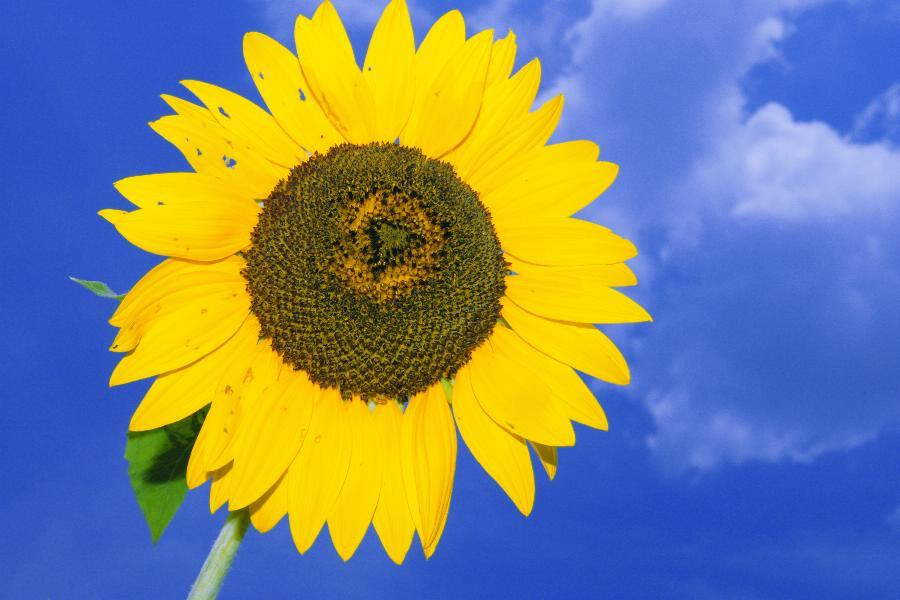sunflowers: (99, 7, 649, 546)
